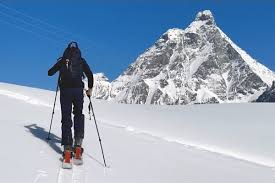skis: (60, 147, 86, 170)
